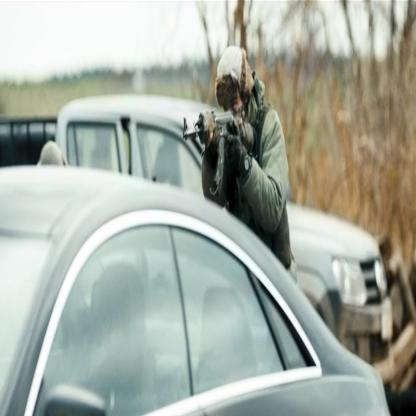gun: (171, 89, 251, 155)
